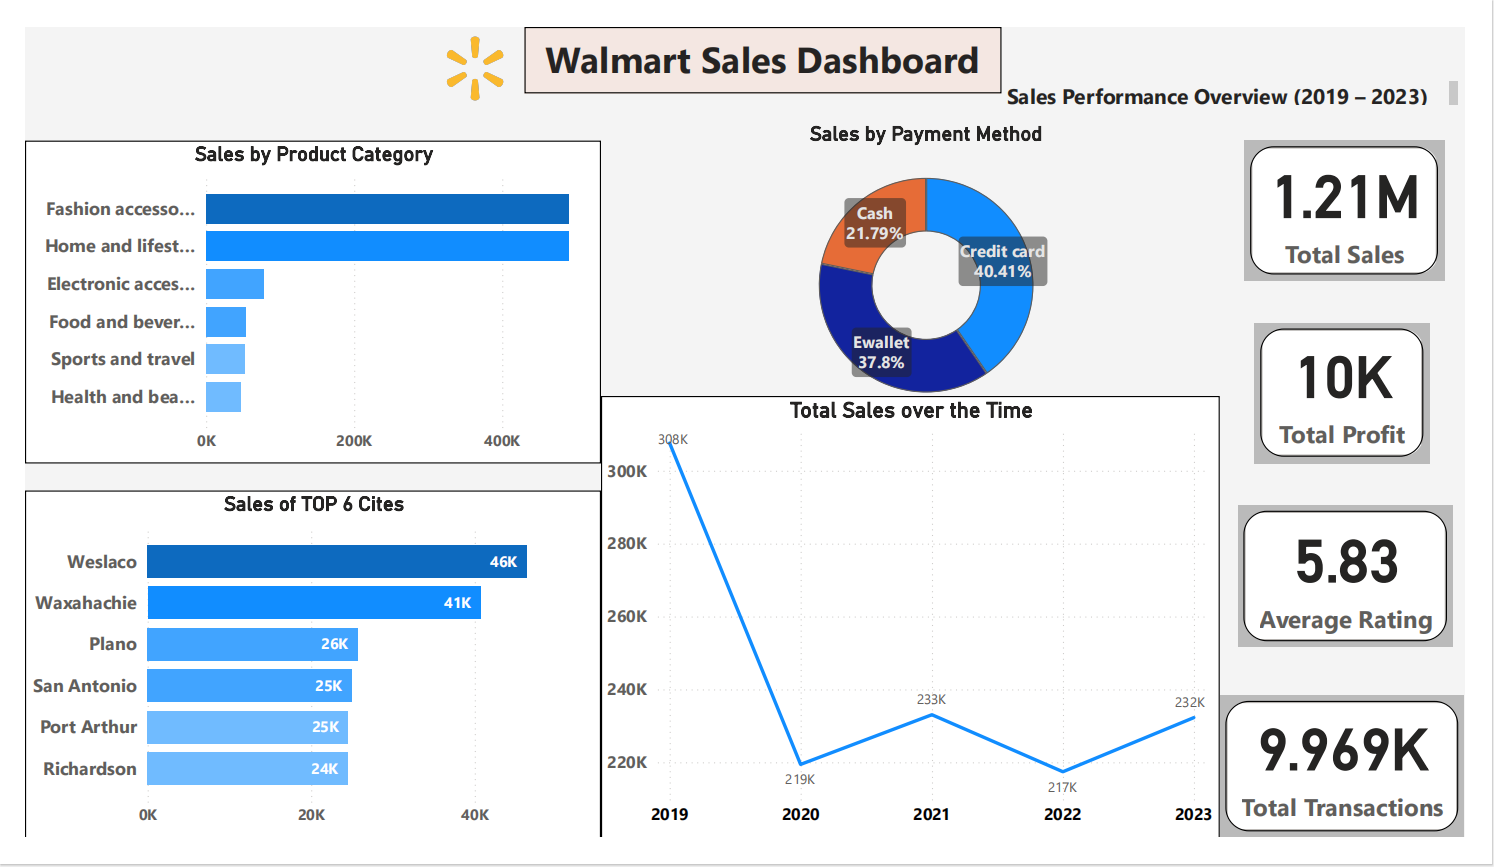

The page's visual inventory and layout, read from the dashboard file:
{"tool":"powerbi","page":{"name":"Page 1","canvas":[1280,720],"ordinal":0},"visuals":[{"type":"cardVisual","fields":{"Data":["Sum(walmart_clean.total)"]},"box":[1083.8,101.5,177.9,125],"z":0},{"type":"cardVisual","fields":{"Data":["Count(walmart_clean.invoice_id)"]},"box":[1061.8,594.1,217.6,126.5],"z":1000},{"type":"cardVisual","fields":{"Data":["CountNonNull(walmart_clean.Profit)"]},"box":[1092.6,263.2,155.9,125],"z":2000},{"type":"cardVisual","fields":{"Data":["Avg(walmart_clean.rating)"]},"box":[1077.9,425,191.2,126.5],"z":3000},{"type":"lineChart","title":"Total Sales over the Time","fields":{"Category":["walmart_clean.date.Variation.Date Hierarchy.Year","walmart_clean.date.Variation.Date Hierarchy.Quarter","walmart_clean.date.Variation.Date Hierarchy.Month","walmart_clean.date.Variation.Date Hierarchy.Day"],"Y":["Sum(walmart_clean.total)"]},"box":[511.8,327.9,550,392.6],"z":4000},{"type":"barChart","title":"Sales by Product Category","fields":{"Category":["walmart_clean.Category"],"Y":["Sum(walmart_clean.Total)"]},"box":[0,101.5,511.8,286.8],"z":5000},{"type":"donutChart","title":"Sales by Payment Method","fields":{"Y":["Sum(walmart_clean.Total)"],"Category":["walmart_clean.Payment_method"]},"box":[576.5,83.8,450,276.5],"z":6000},{"type":"textbox","box":[444.1,0,423.5,58.8],"z":7000},{"type":"barChart","title":"Sales of TOP 6 Cites","fields":{"Y":["Sum(walmart_clean.Total)"],"Category":["walmart_clean.City"]},"box":[0,411.8,511.8,308.8],"z":8000},{"type":"image","box":[355.9,0,88.2,73.5],"z":9000},{"type":"textbox","box":[867.6,42.6,411.8,30.9],"z":10000}]}

Visuals, with their boxes on the page's 1280x720 design canvas (x1, y1, x2, y2). These are canvas units, not pixel positions in the 1494x867 screenshot, which may show the page scaled, cropped or inside an application window:
cardVisual - Sum(walmart_clean.total): l=1084, t=102, r=1262, b=226
cardVisual - Count(walmart_clean.invoice_id): l=1062, t=594, r=1279, b=721
cardVisual - CountNonNull(walmart_clean.Profit): l=1093, t=263, r=1248, b=388
cardVisual - Avg(walmart_clean.rating): l=1078, t=425, r=1269, b=552
"Total Sales over the Time" lineChart: l=512, t=328, r=1062, b=720
"Sales by Product Category" barChart: l=0, t=102, r=512, b=388
"Sales by Payment Method" donutChart: l=576, t=84, r=1026, b=360
textbox: l=444, t=0, r=868, b=59
"Sales of TOP 6 Cites" barChart: l=0, t=412, r=512, b=721
image: l=356, t=0, r=444, b=74
textbox: l=868, t=43, r=1279, b=74
